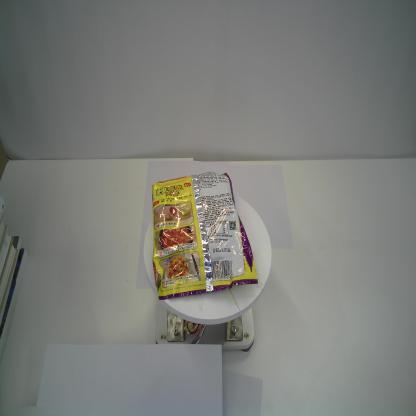Instant Noodles: (151, 171, 259, 302)
